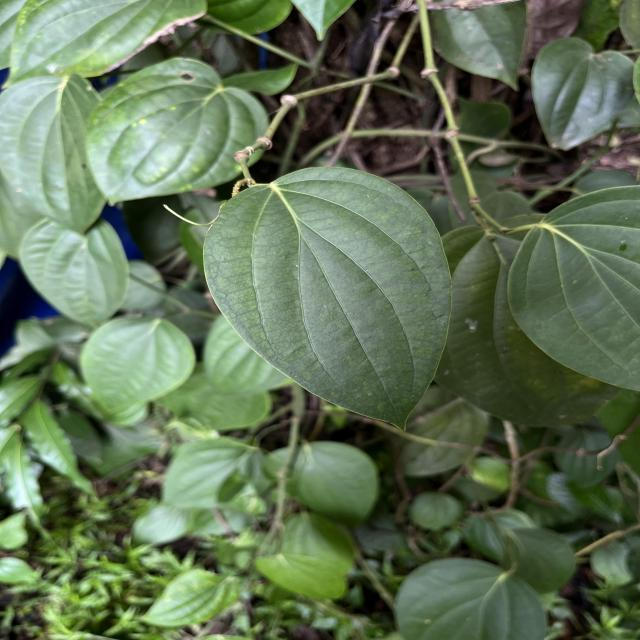Piper nigrum: (200, 164, 455, 434)
